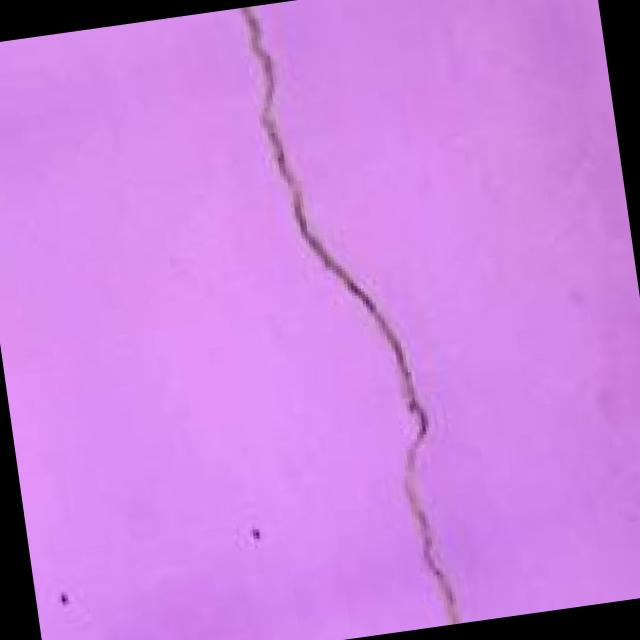crack: (196, 0, 491, 640)
